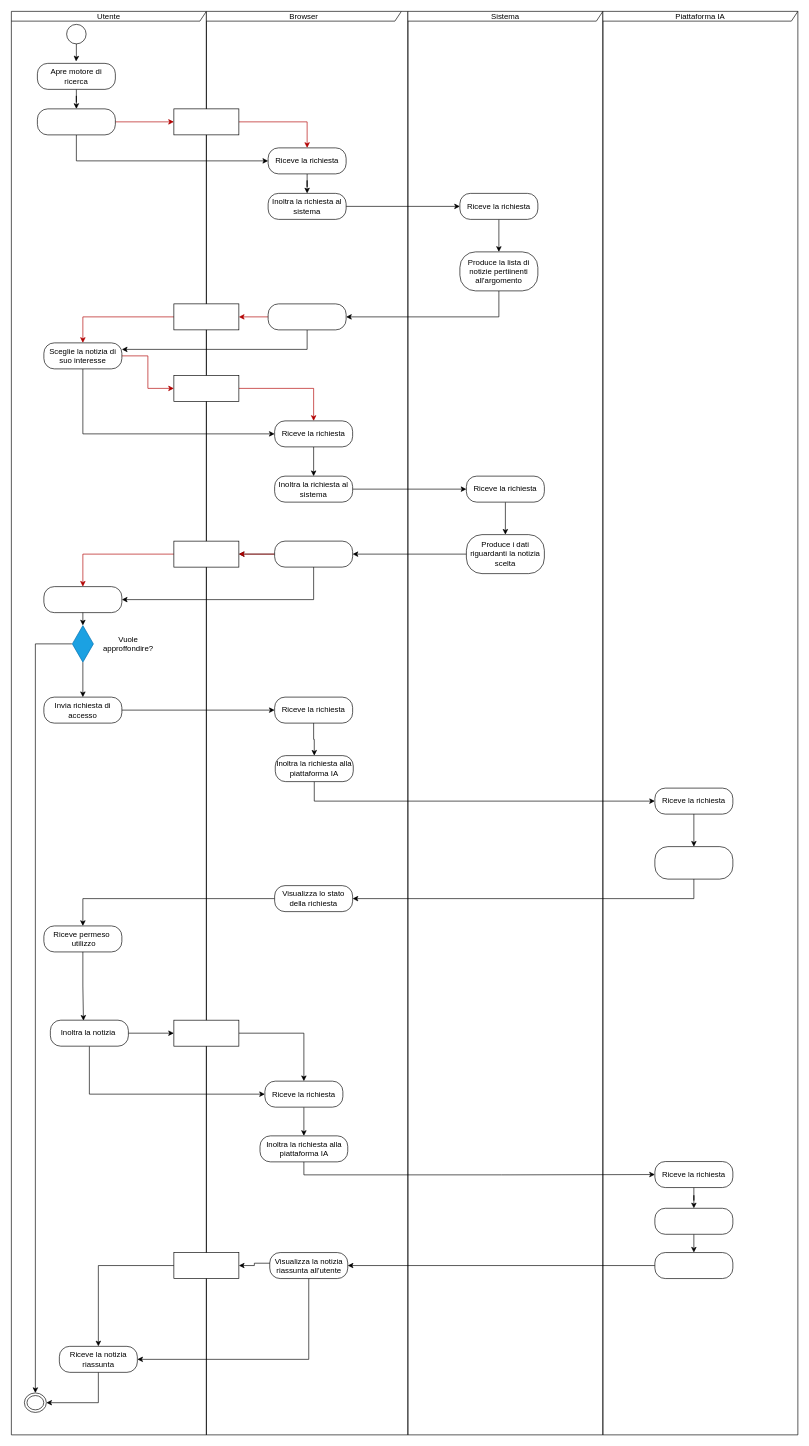
The diagram is 809 pixels wide and 1446 high, and some of its shapes have lost their labels. The centre of each missing label's shape, as x and y in pixels:
Conferma stato di operabilità: the point at 693,862
Genera riassunto notizia: the point at 693,1221
Inoltra riassunto notizia: the point at 693,1265
ListaNotizie [completed]: the point at 206,316
ListaNotizie [in progress]: the point at 206,121
Notizia [completed]: the point at 206,553
Notizia [in progress]: the point at 206,388
NotiziaRiassunta [completed]: the point at 206,1265
NotiziaRiassunta [in progress]: the point at 206,1033
Ricerca notizie di un dato argomento: the point at 76,121
Riceve la notizia: the point at 82,599
Visualizza la lista all'utente: the point at 306,316
Visualizza la notizia al utente: the point at 313,553
